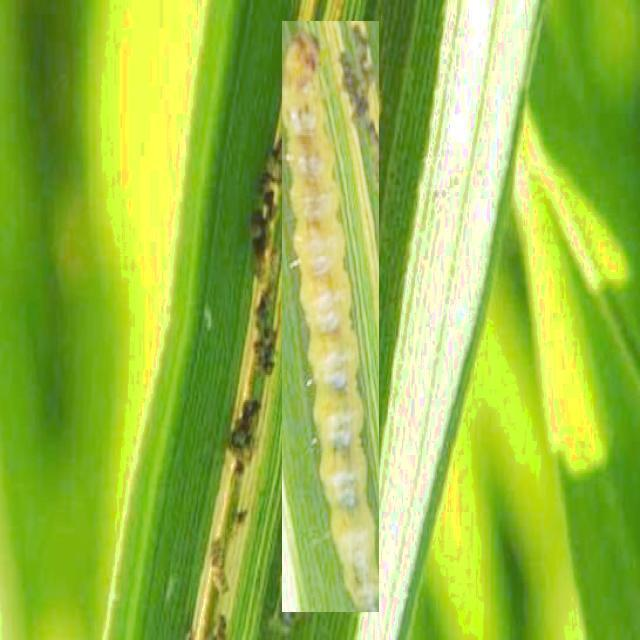leaf-folder: (282, 21, 379, 612)
